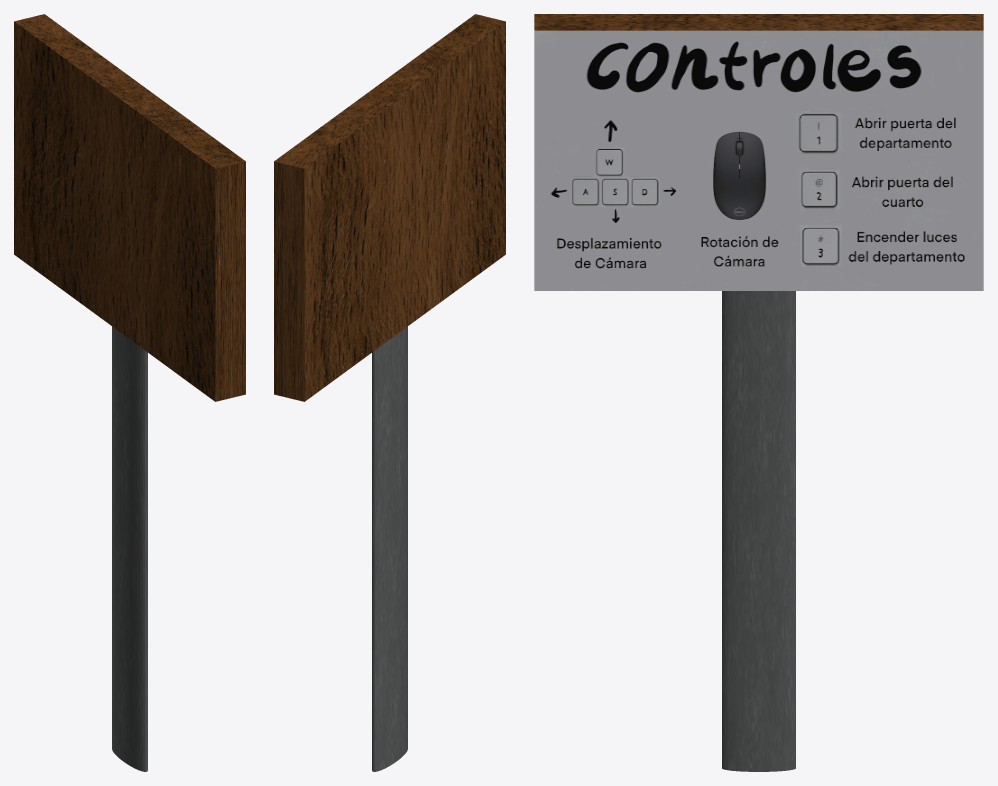
File: instrucciones.obj
3 renders of one model, left to right at view 1: azimuth 30°, elevation 25°; view 2: azimuth 150°, elevation 25°; view 3: azimuth 270°, elevation 25°, orthographic. The views are drawn at different scales.
Visible parts, largest first — view 1: Cube.001_Cube.002, Cylinder; view 2: Cube.001_Cube.002, Cylinder; view 3: Cube_Cube.001, Cylinder, Cube.001_Cube.002.
Part boxes in pixels (x1=…): Cube.001_Cube.002: x1=14, y1=14, x2=245, y2=401; Cylinder: x1=112, y1=326, x2=147, y2=771; Cube.001_Cube.002: x1=274, y1=14, x2=505, y2=401; Cylinder: x1=372, y1=326, x2=407, y2=771; Cube_Cube.001: x1=534, y1=30, x2=983, y2=290; Cylinder: x1=722, y1=291, x2=795, y2=771; Cube.001_Cube.002: x1=534, y1=14, x2=983, y2=30.
Bounding box in the file's own units: 0.626 × 13.1 × 7.15.
Materials: 3 (3 with a texture image).
